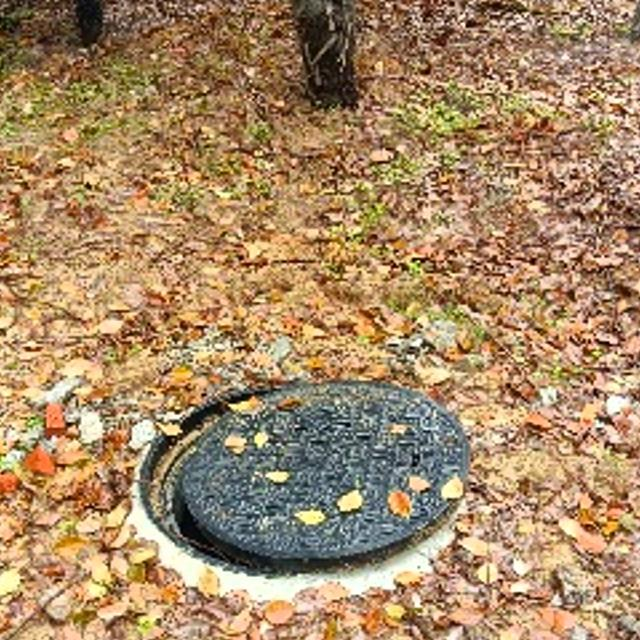uncovered: (140, 383, 474, 586)
